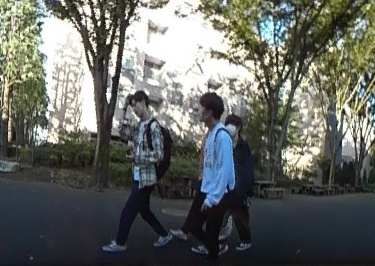person: (117, 88, 168, 247), (189, 86, 231, 251), (216, 111, 256, 252)
